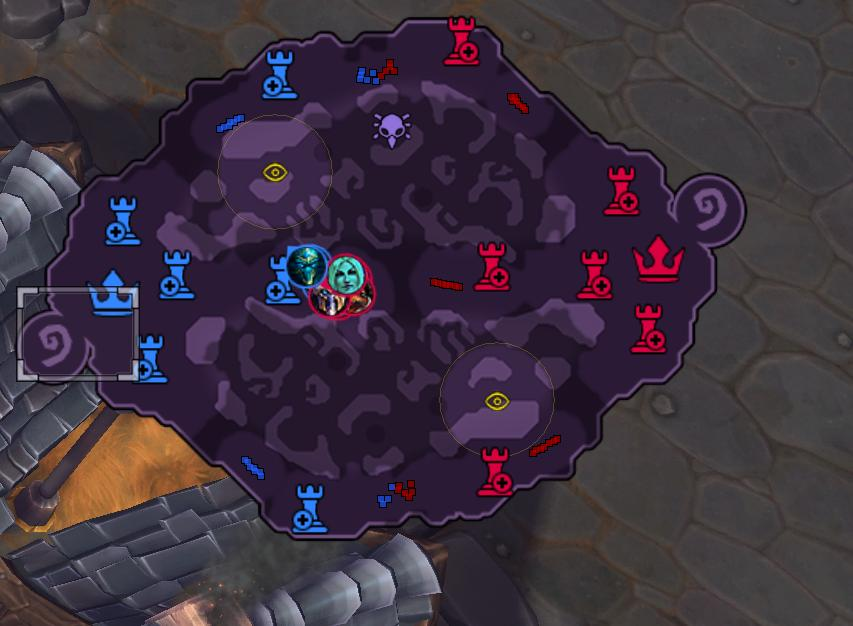blue nexus: (86, 267, 136, 317)
blue player: (285, 244, 329, 289)
blue tower: (260, 47, 299, 101), (156, 248, 196, 300), (263, 252, 302, 305), (290, 482, 328, 533)
red nexus: (631, 233, 685, 283)
red player: (321, 251, 373, 298), (305, 275, 357, 321)
red tower: (475, 445, 515, 497), (442, 15, 480, 67), (629, 303, 667, 354), (473, 240, 510, 292), (576, 248, 613, 300)
